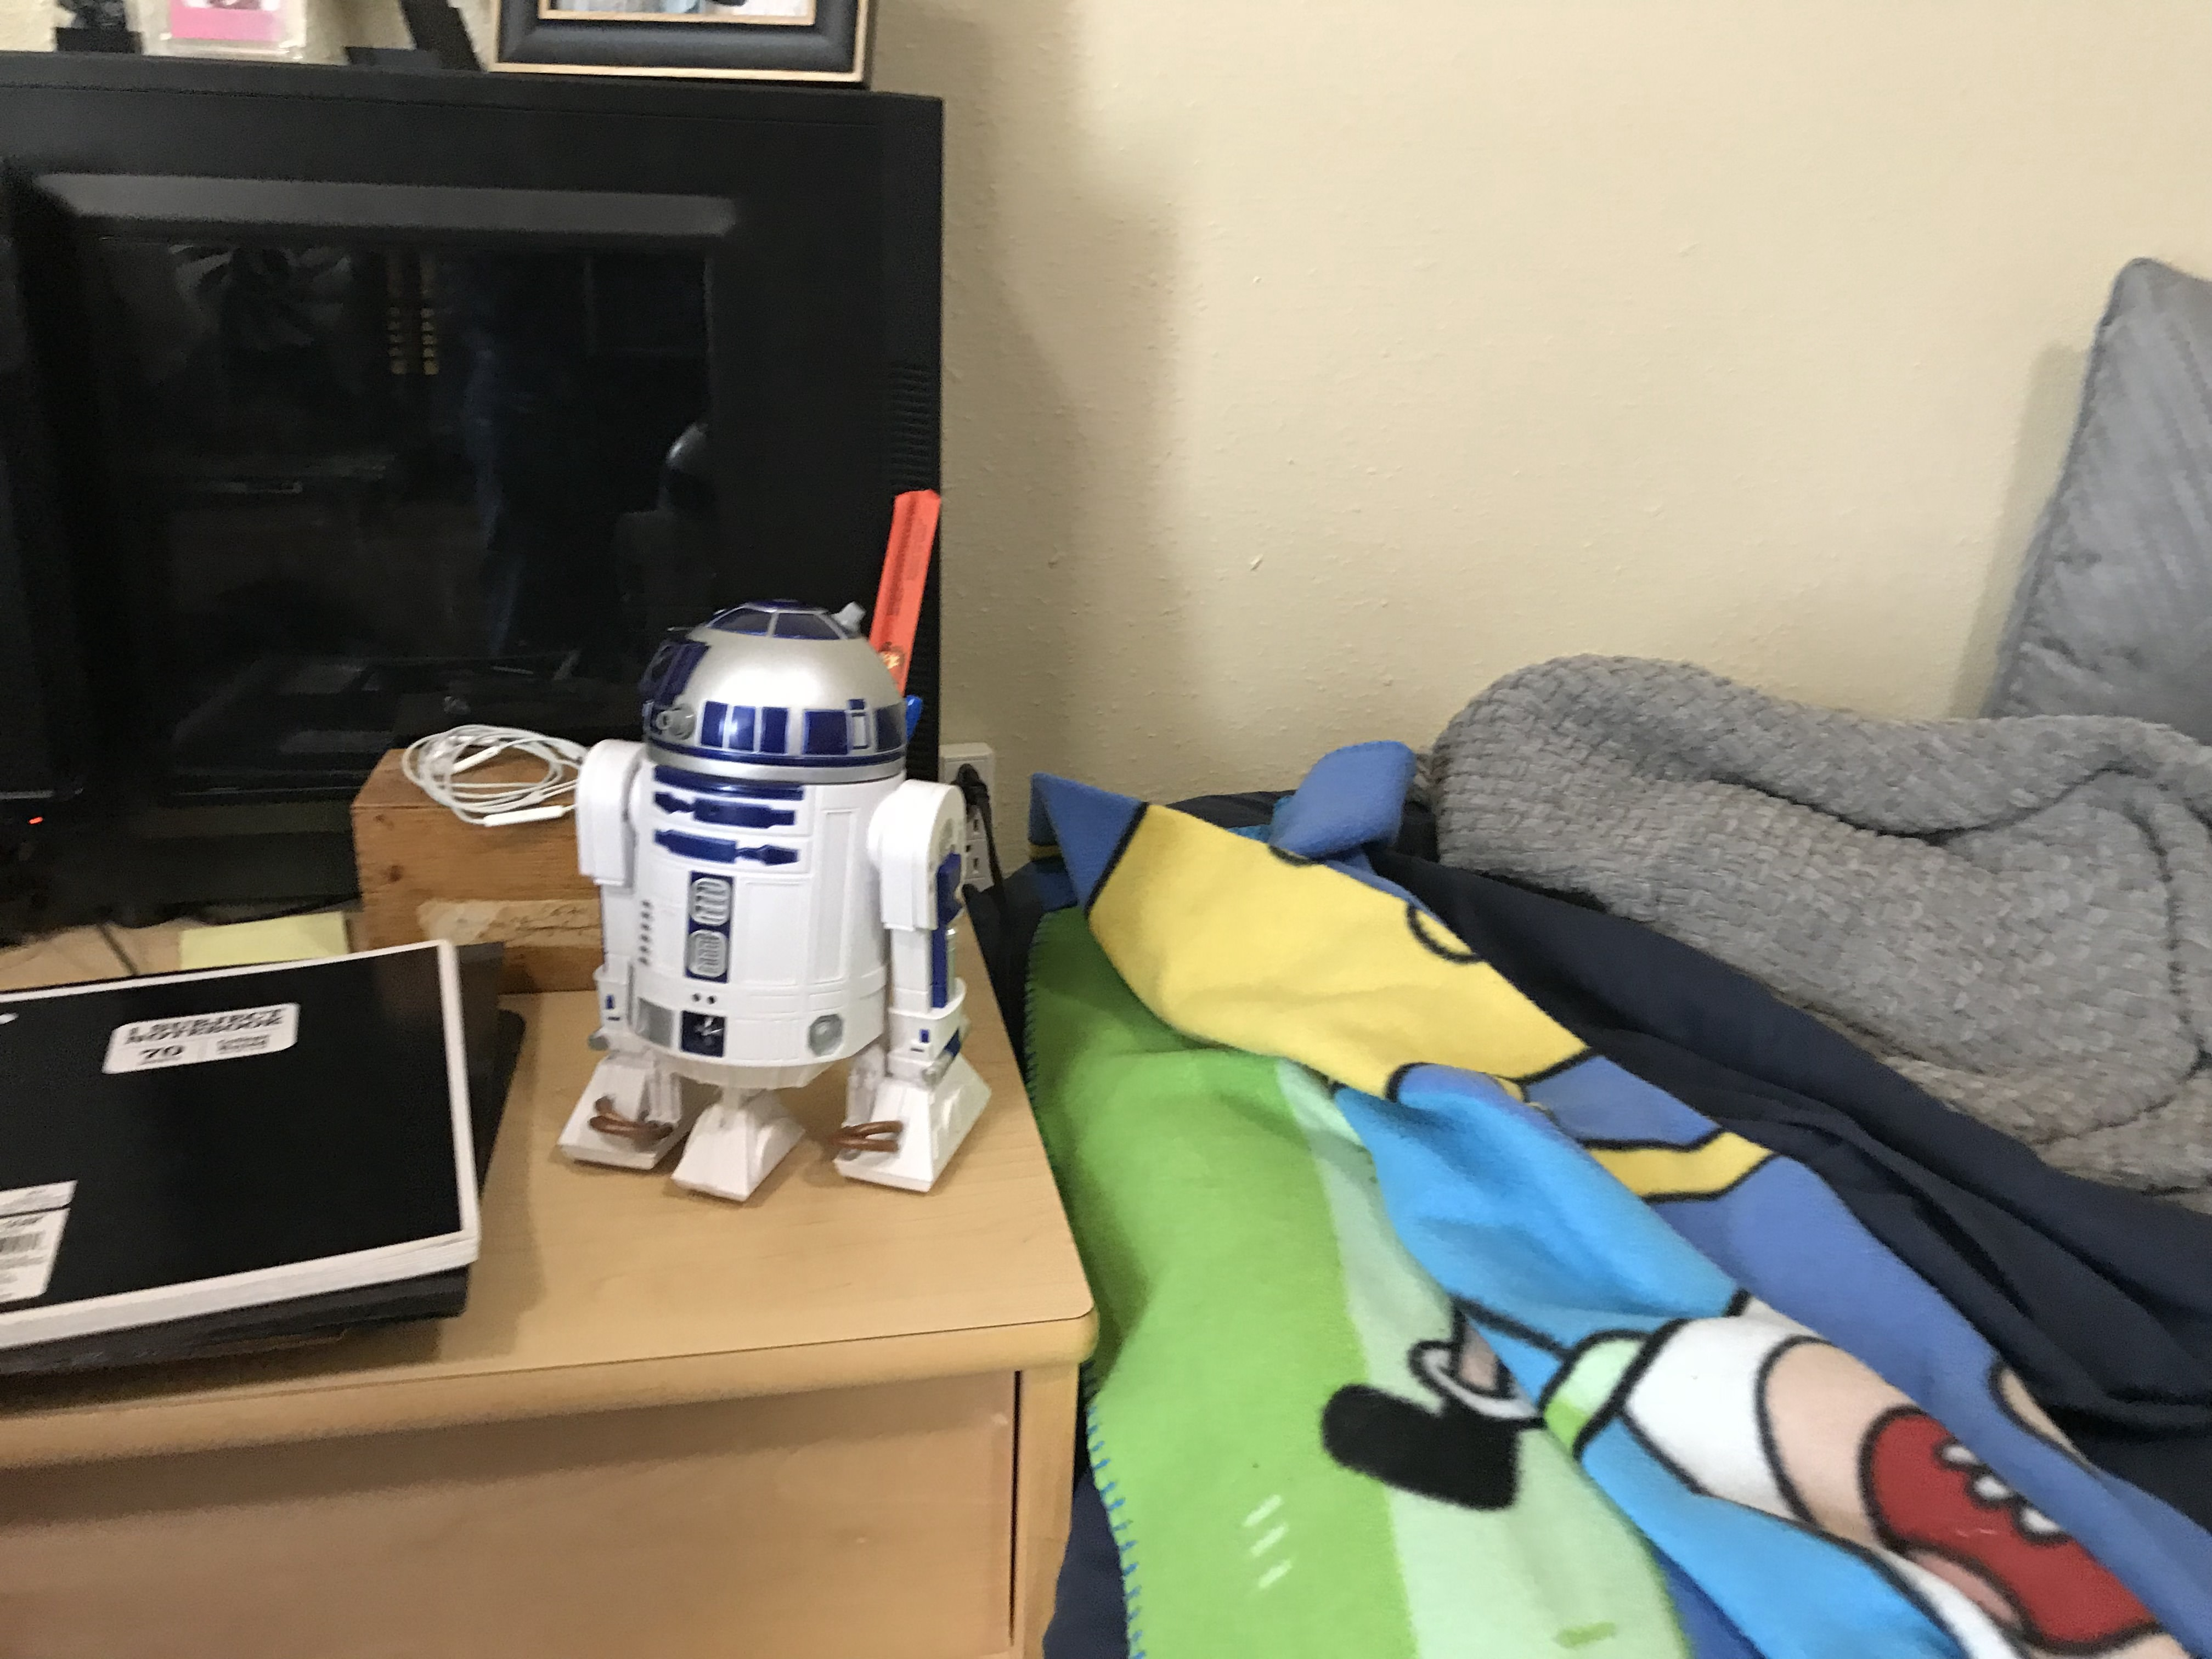r2d2: (564, 599, 995, 1206)
